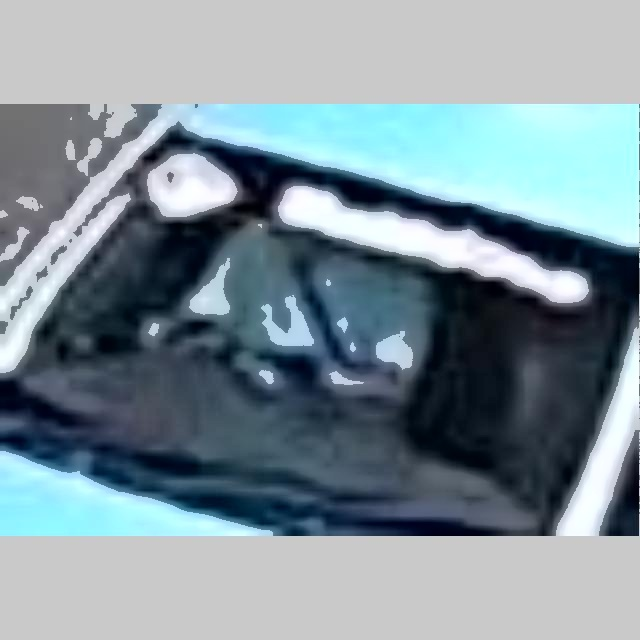pakai: (191, 212, 407, 445)
